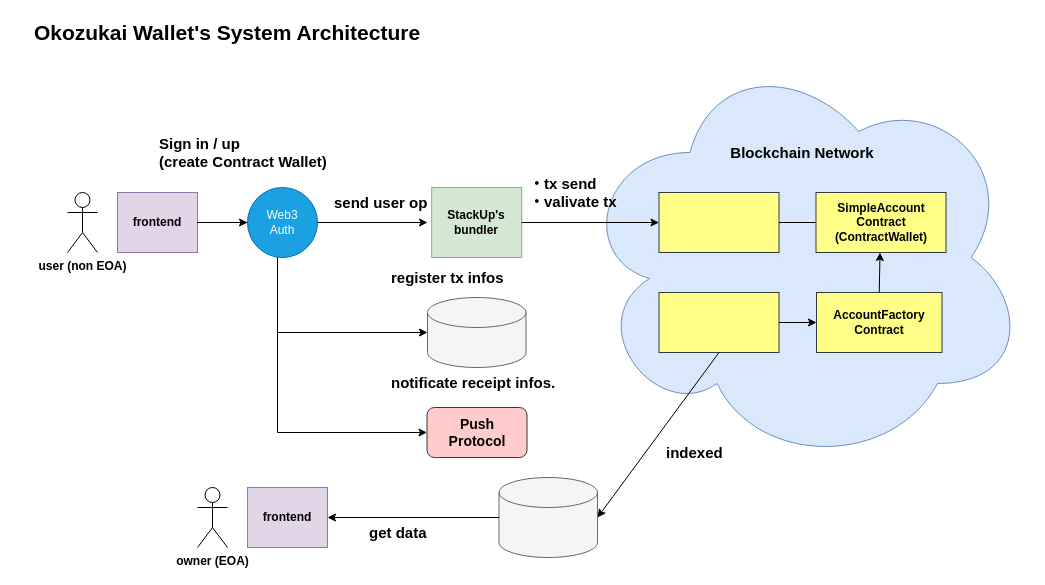
The diagram is 1045 pixels wide and 585 high, and some of its shapes have lost their labels. Each missing label, with the box of its shape:
EntryPoint Contract: (658, 192, 779, 252)
factory Manager: (658, 292, 779, 352)
Polybase: (426, 296, 526, 368)
The Graph: (498, 476, 598, 558)
